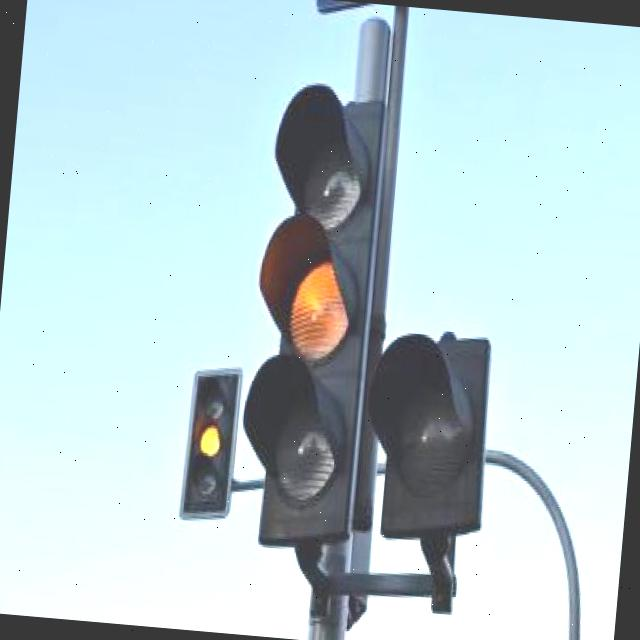yellow_light: (250, 92, 384, 536), (187, 378, 234, 512)
